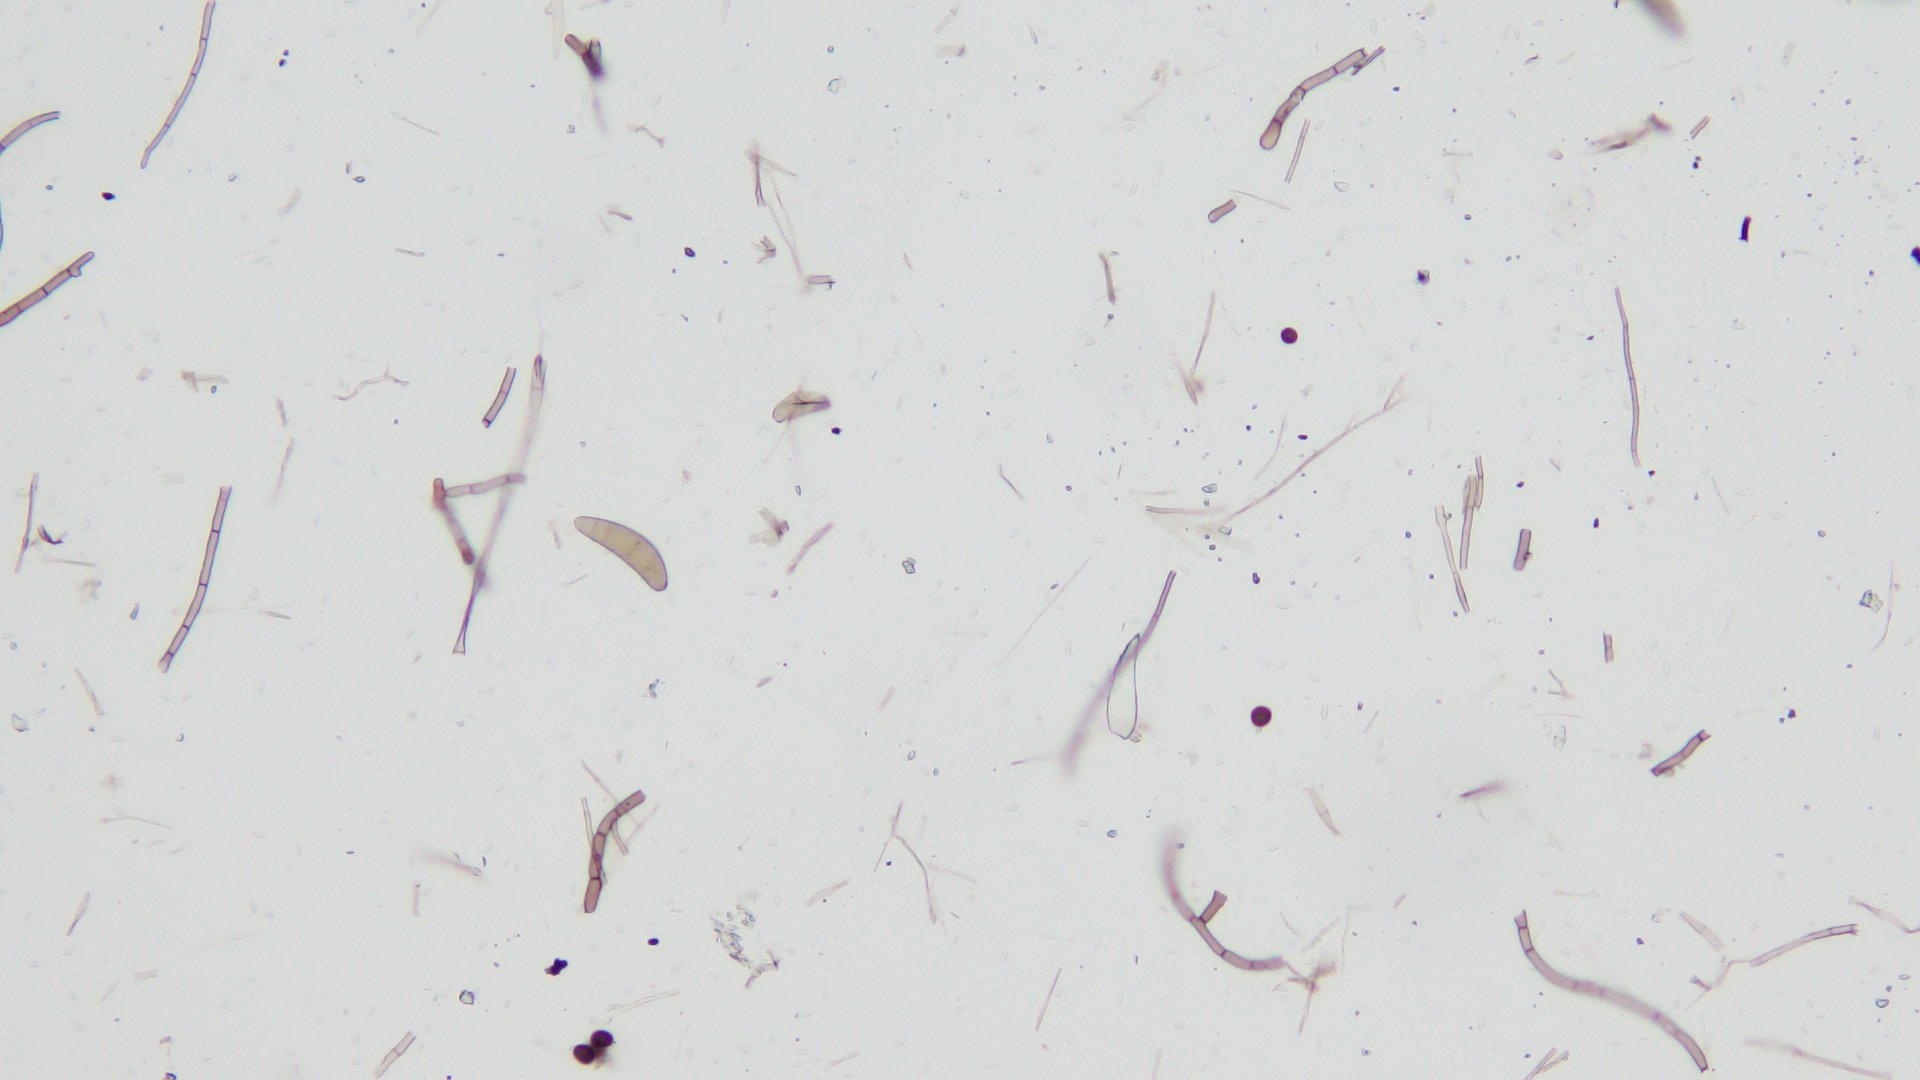dbb_spore: (575, 513, 669, 589)
shs_spore: (1250, 704, 1273, 728), (591, 1029, 615, 1047), (574, 1043, 595, 1063), (1279, 326, 1299, 345)
